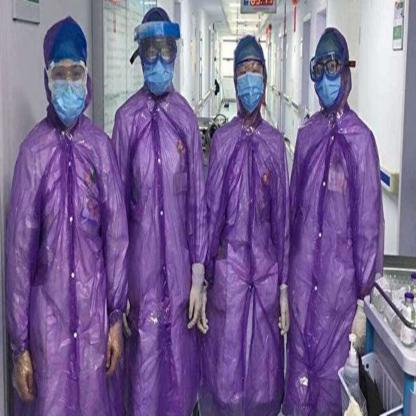Wearing_Mask: (47, 61, 88, 125), (139, 36, 175, 94), (235, 58, 264, 112), (312, 54, 342, 106)
